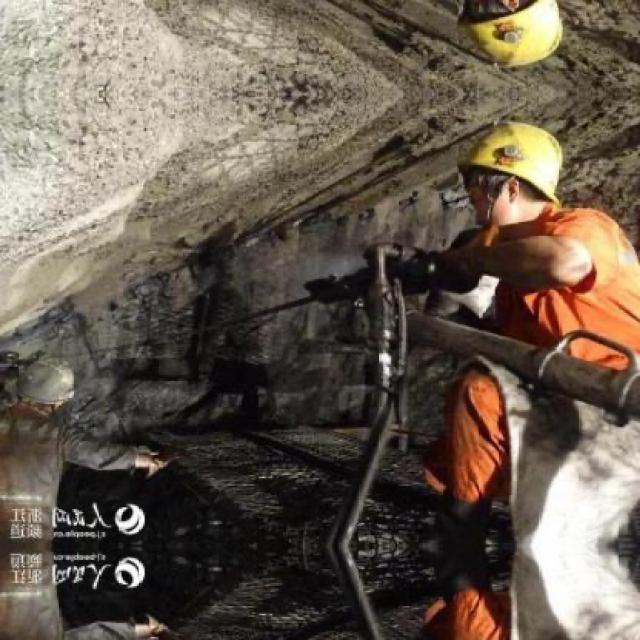helmet: (449, 116, 578, 240), (448, 0, 578, 74), (9, 352, 89, 416)
